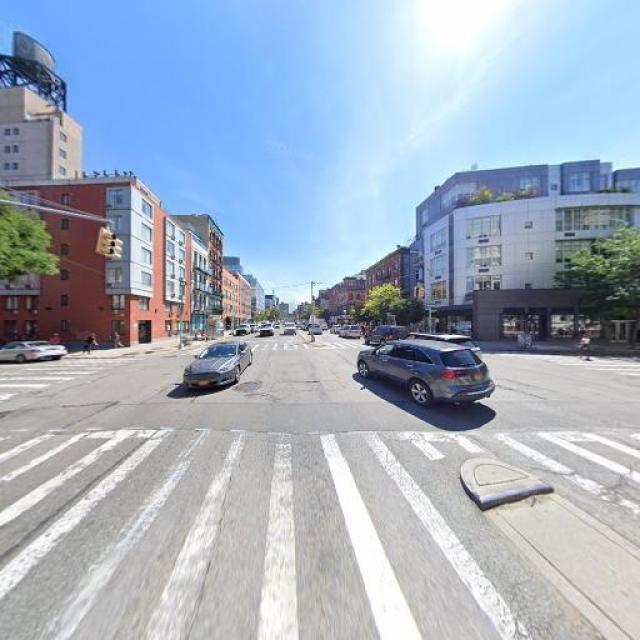Building: (402, 159, 640, 343), (1, 175, 189, 348), (208, 220, 220, 332), (383, 250, 399, 333), (193, 237, 205, 335), (223, 269, 238, 330), (368, 264, 380, 330)
